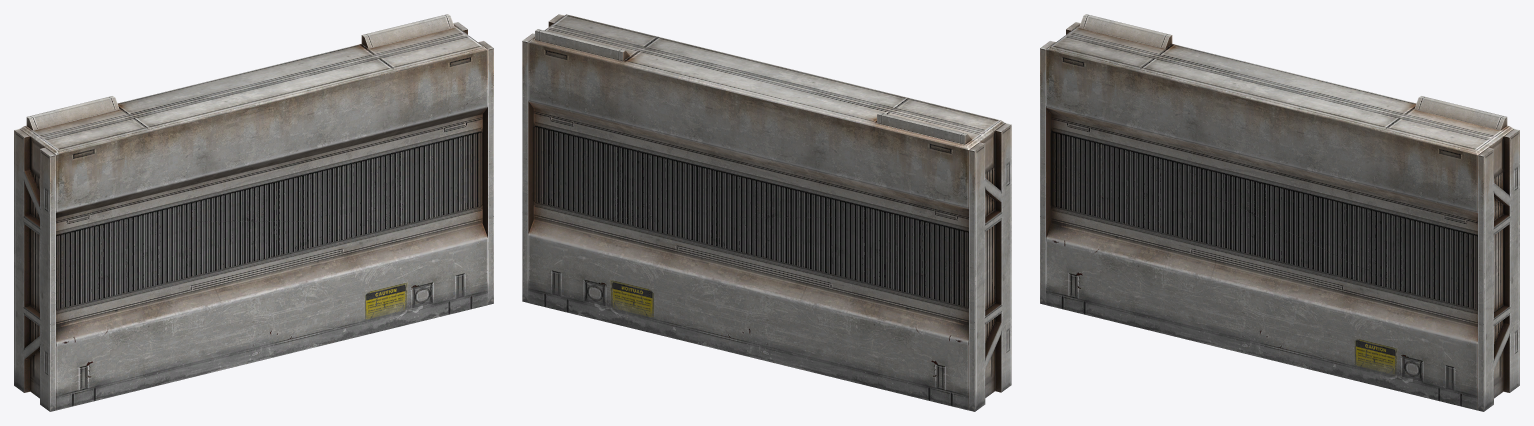
The model's file is radiator_station.dae.
3 renders of one model, left to right at view 1: azimuth 30°, elevation 25°; view 2: azimuth 150°, elevation 25°; view 3: azimuth 330°, elevation 25°, orthographic. The views are drawn at different scales.
Visible parts, largest first — view 1: radiator-Pivot; view 2: radiator-Pivot; view 3: radiator-Pivot.
Boxes of the visible parts, <box> form: radiator-Pivot: <box>14,14,493,411</box>; radiator-Pivot: <box>522,14,1011,411</box>; radiator-Pivot: <box>1040,14,1519,411</box>.
Size of the model in its own units: 1.08 by 0.6198 by 0.1525.
